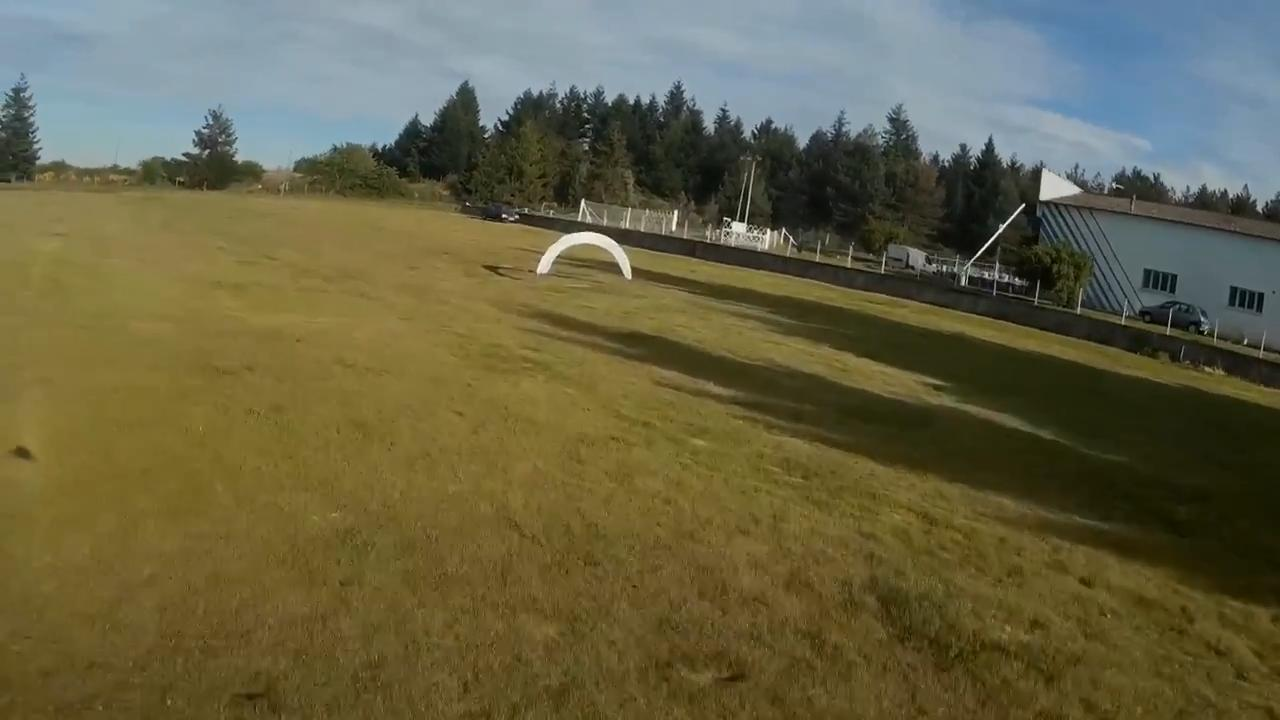gate: (537, 231, 629, 278)
